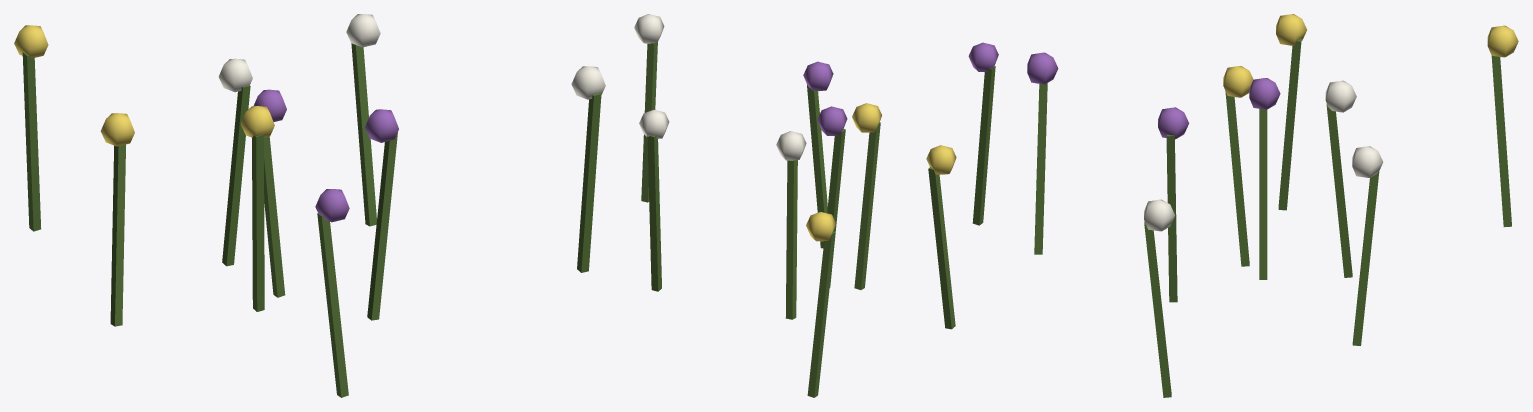
Rendered from plant-herb.glb.
3 renders of one model, left to right at view 1: azimuth 30°, elevation 25°; view 2: azimuth 150°, elevation 25°; view 3: azimuth 270°, elevation 25°, orthographic. The views are drawn at different scales.
Parts seen in each view (by area): view 1: 00_#5a7a3a_noshadow_r110, 03_#f0ece0_noshadow_r110, 02_#e8d060_noshadow_r110, 01_#9a6ab8_noshadow_r110; view 2: 00_#5a7a3a_noshadow_r110, 02_#e8d060_noshadow_r110, 01_#9a6ab8_noshadow_r110, 03_#f0ece0_noshadow_r110; view 3: 00_#5a7a3a_noshadow_r110, 03_#f0ece0_noshadow_r110, 01_#9a6ab8_noshadow_r110, 02_#e8d060_noshadow_r110.
Boxes of the visible parts, bbox=[...] form: 00_#5a7a3a_noshadow_r110: bbox=[22, 43, 601, 397]; 03_#f0ece0_noshadow_r110: bbox=[218, 14, 605, 99]; 02_#e8d060_noshadow_r110: bbox=[14, 25, 274, 146]; 01_#9a6ab8_noshadow_r110: bbox=[253, 89, 398, 222]; 00_#5a7a3a_noshadow_r110: bbox=[641, 42, 995, 397]; 02_#e8d060_noshadow_r110: bbox=[806, 103, 956, 241]; 01_#9a6ab8_noshadow_r110: bbox=[803, 42, 998, 135]; 03_#f0ece0_noshadow_r110: bbox=[634, 14, 806, 160]; 00_#5a7a3a_noshadow_r110: bbox=[1034, 39, 1511, 397]; 03_#f0ece0_noshadow_r110: bbox=[1144, 80, 1383, 231]; 01_#9a6ab8_noshadow_r110: bbox=[1027, 52, 1280, 139]; 02_#e8d060_noshadow_r110: bbox=[1223, 14, 1518, 97].
Bounding box in the file's own units: 0.6838 × 0.3151 × 0.7123.
